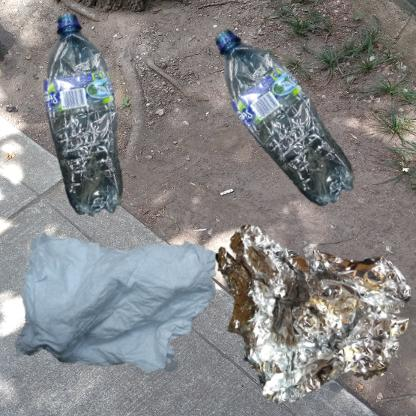aluminio: (213, 213, 416, 409)
botella: (10, 10, 183, 252), (213, 10, 374, 243)
papel: (10, 213, 236, 396)
